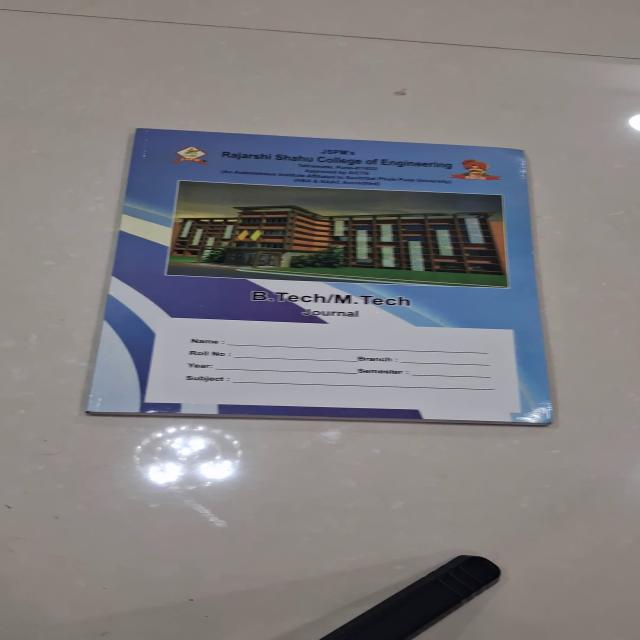paper: (83, 127, 554, 426)
